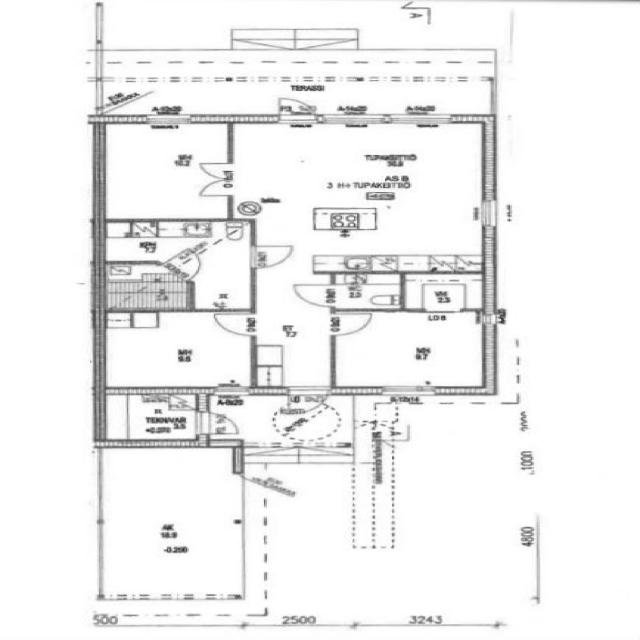door: (158, 248, 216, 282), (288, 386, 327, 418), (280, 93, 315, 123), (197, 412, 246, 433), (250, 246, 292, 268), (214, 314, 256, 335), (330, 314, 371, 335), (295, 285, 335, 306), (201, 163, 234, 179), (201, 179, 234, 195)
